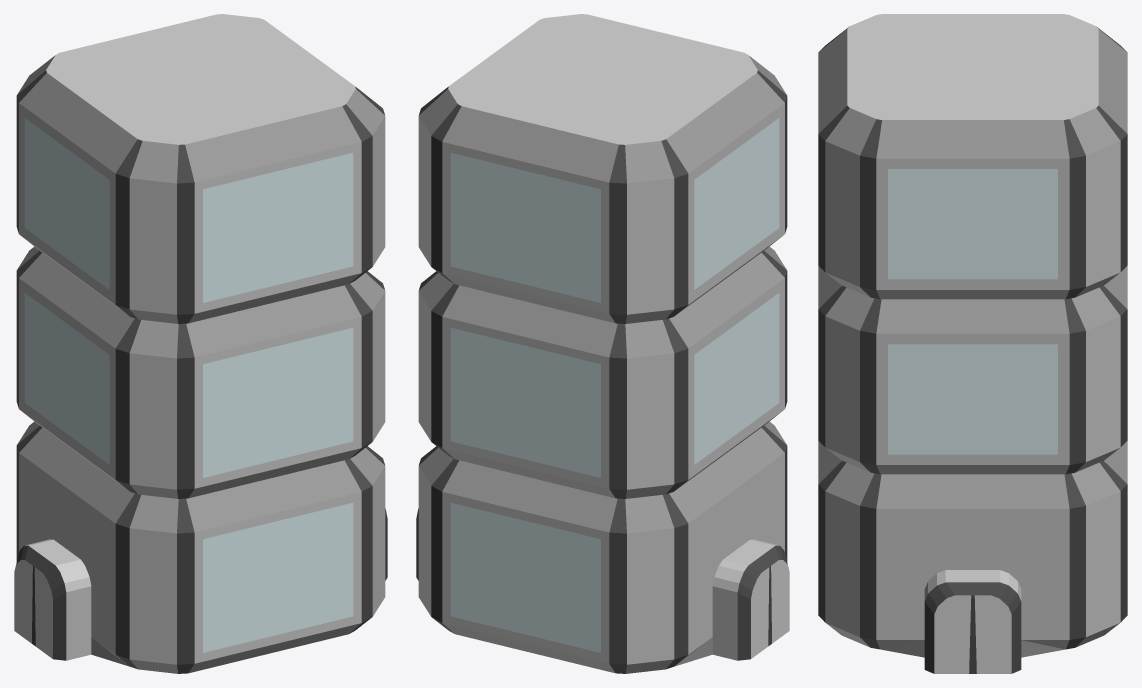
Rendered from Environment_D_Placement.fbx.
3 renders of one model, left to right at view 1: azimuth 30°, elevation 25°; view 2: azimuth 150°, elevation 25°; view 3: azimuth 270°, elevation 25°, orthographic.
Parts seen in each view (by area): view 1: Cube.010; view 2: Cube.010; view 3: Cube.010.
Part boxes in pixels (x1,y1,x2,y2): Cube.010: [14, 14, 387, 673]; Cube.010: [416, 14, 789, 673]; Cube.010: [818, 14, 1127, 673].
Size of the model in its own units: 2 by 3 by 1.6.
